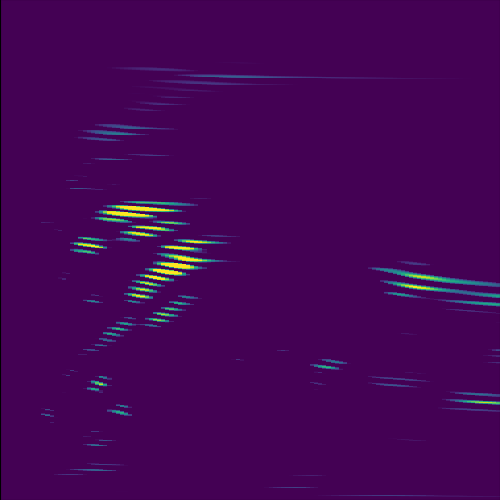semblance: (125, 238, 227, 303), (93, 200, 191, 224), (121, 218, 195, 240)
